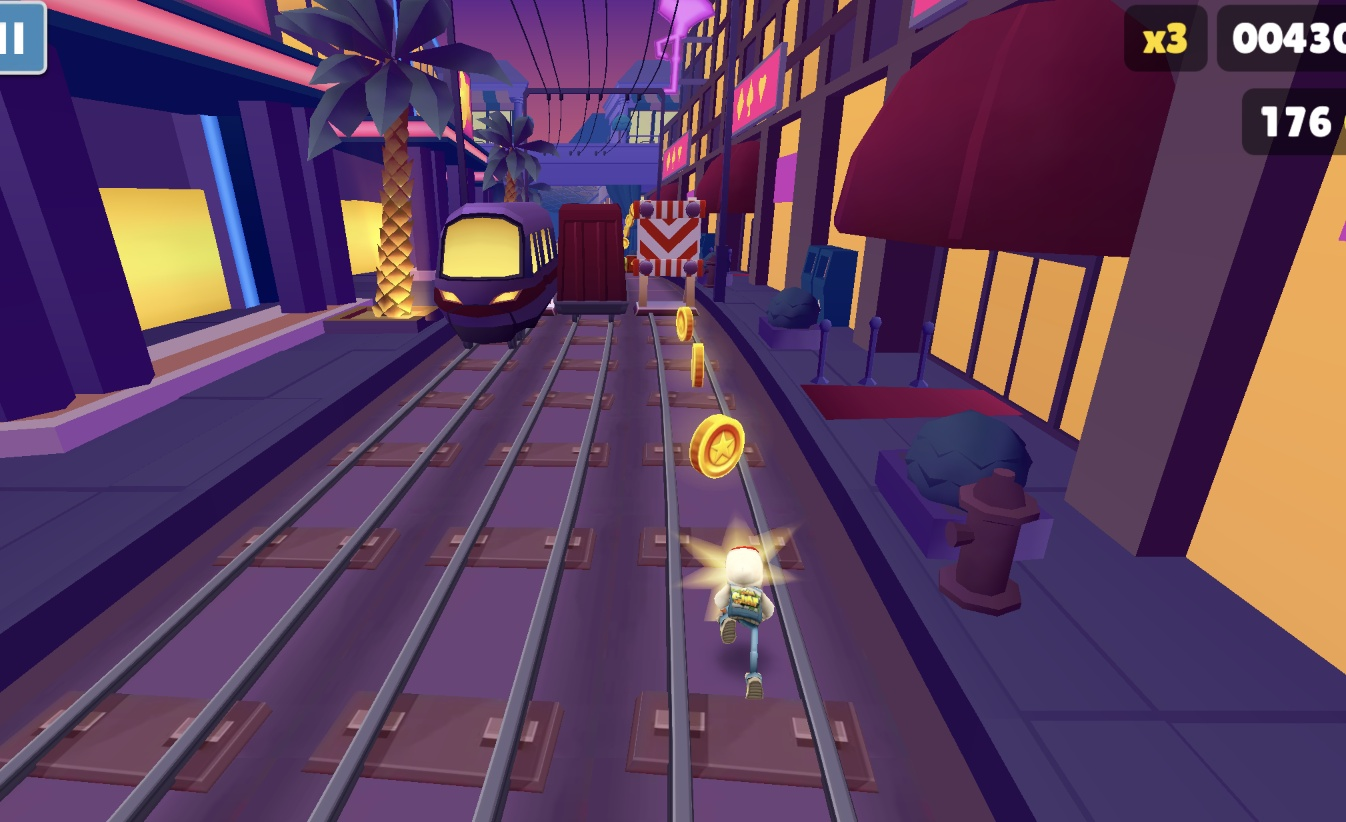overhead_barrier: (632, 198, 708, 315)
train: (431, 200, 562, 346), (552, 201, 630, 321)
